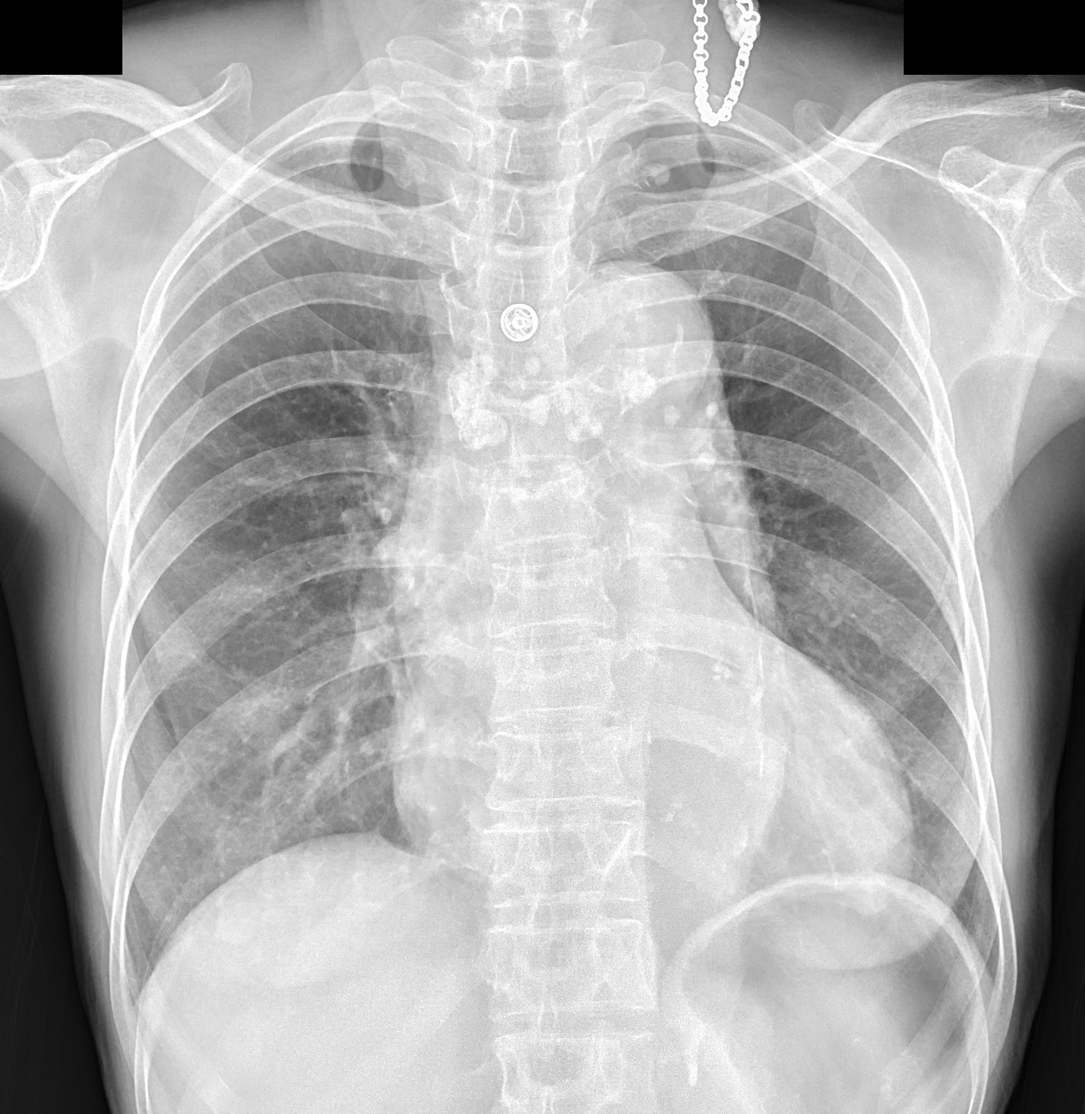Aortic enlargement: (541, 256, 753, 503)
Cardiomegaly: (383, 682, 909, 890)
